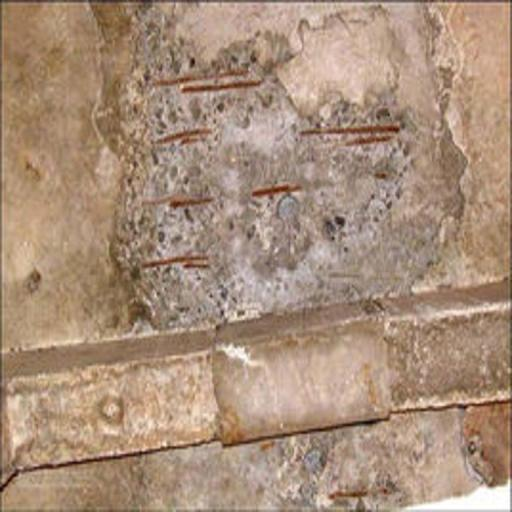spalling: (108, 13, 469, 324)
